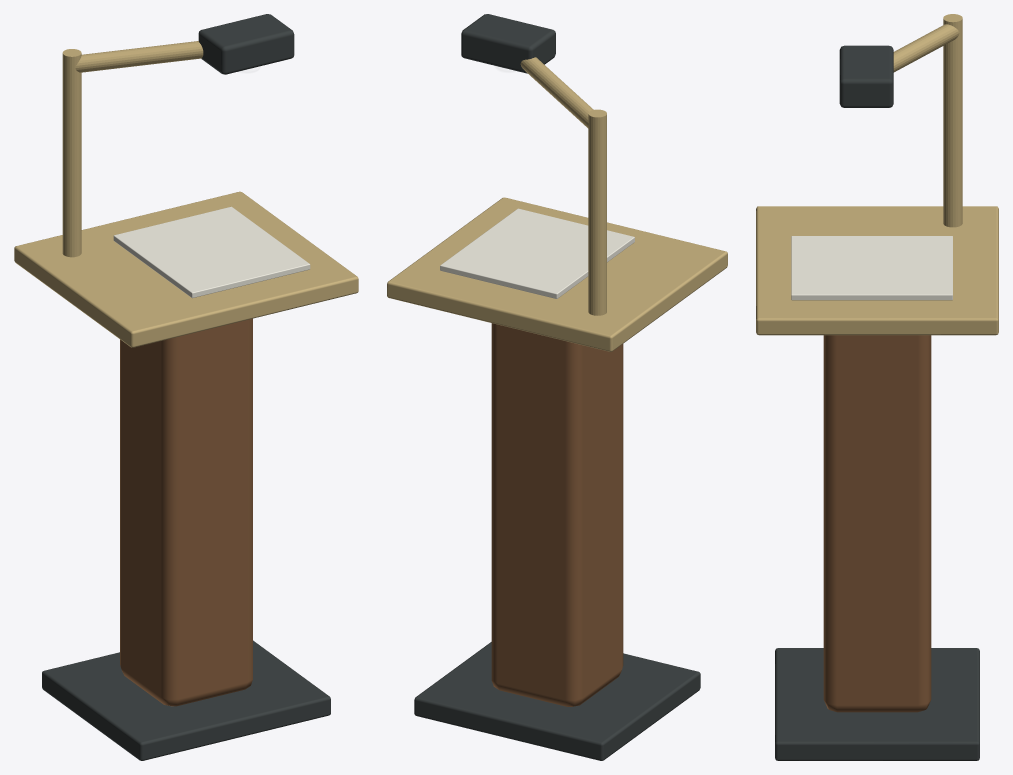
The model's file is city-courthouse-and-records-office-city-courthouse-and-f021c14c__30971.glb.
3 views of the same model, side by side, from view 1: azimuth 30°, elevation 25°; view 2: azimuth 150°, elevation 25°; view 3: azimuth 270°, elevation 25° (orthographic). The views are drawn at different scales.
Visible parts, largest first — view 1: city-courthouse-and-records-office-document-camera-pedestal_ (×4); view 2: city-courthouse-and-records-office-document-camera-pedestal_ (×4); view 3: city-courthouse-and-records-office-document-camera-pedestal_ (×4).
Boxes of the visible parts, bbox=[...] form: city-courthouse-and-records-office-document-camera-pedestal_ (×4): bbox=[14, 14, 358, 760]; city-courthouse-and-records-office-document-camera-pedestal_ (×4): bbox=[387, 14, 727, 760]; city-courthouse-and-records-office-document-camera-pedestal_ (×4): bbox=[756, 14, 998, 760].
Size of the model in its own units: 0.5 by 1.39 by 0.45.
